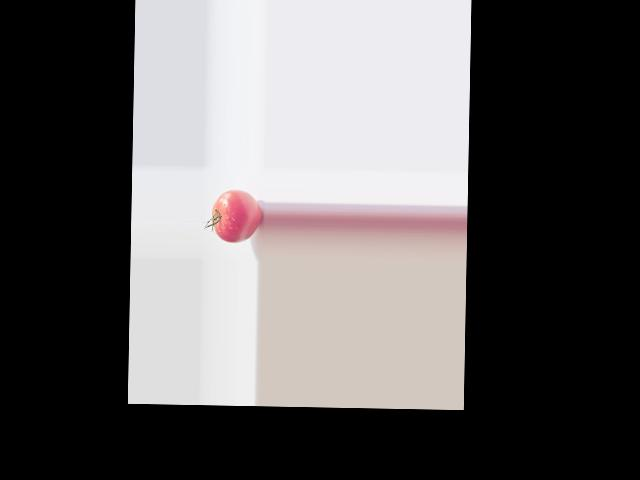tomato: (212, 188, 262, 242)
